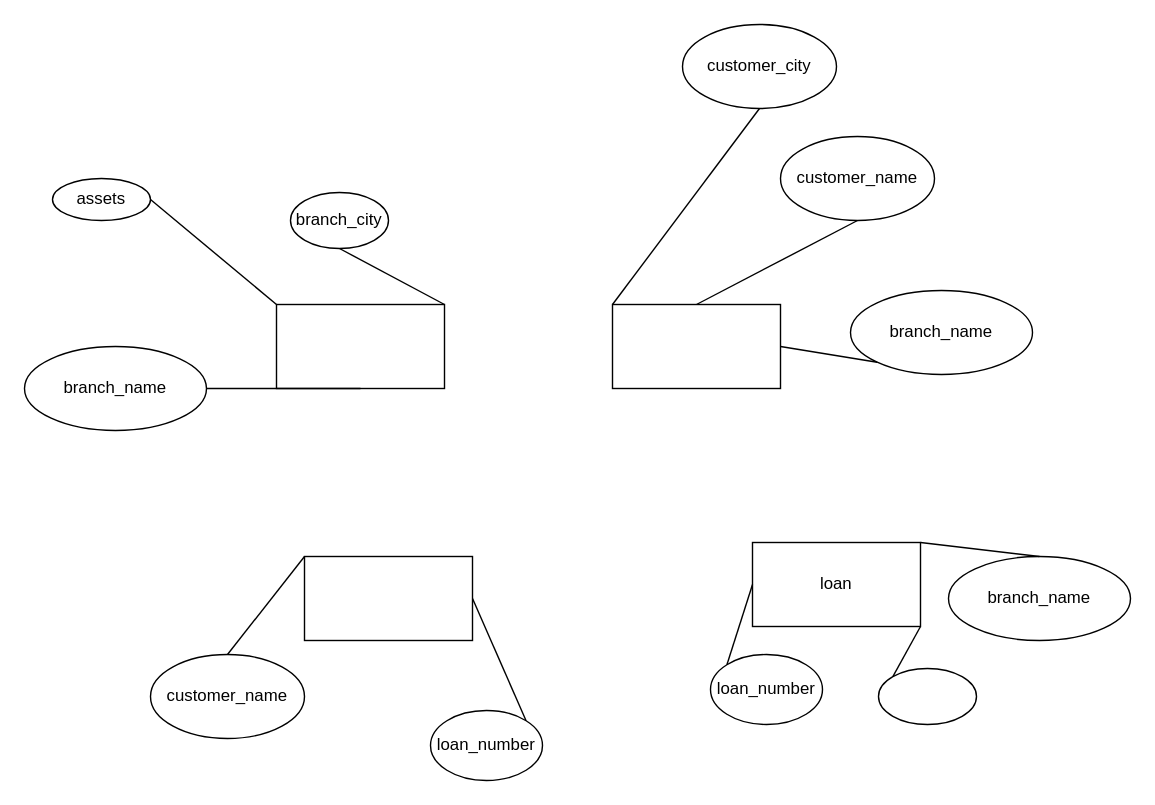
This 1155x805 diagram has some shape labels left out. The box of each missing label's shape, as (x1, y1, x2, y2) in pixels:
amount: (877, 667, 976, 724)
borrower: (303, 555, 472, 640)
branch: (275, 303, 444, 388)
customer: (611, 303, 780, 388)
